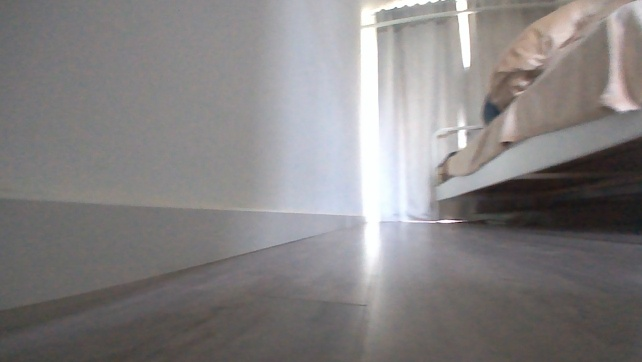bed: (428, 0, 641, 225)
